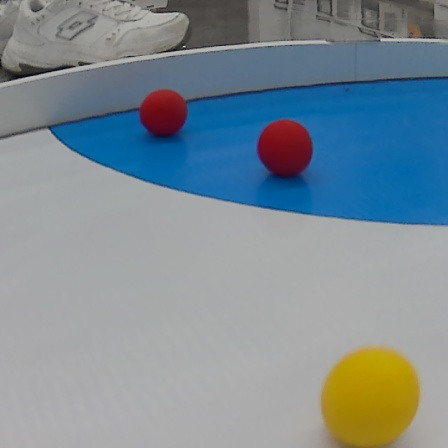blue_base: (48, 74, 448, 227)
red: (257, 118, 314, 179), (136, 86, 190, 139)
yellow: (320, 342, 422, 445)
